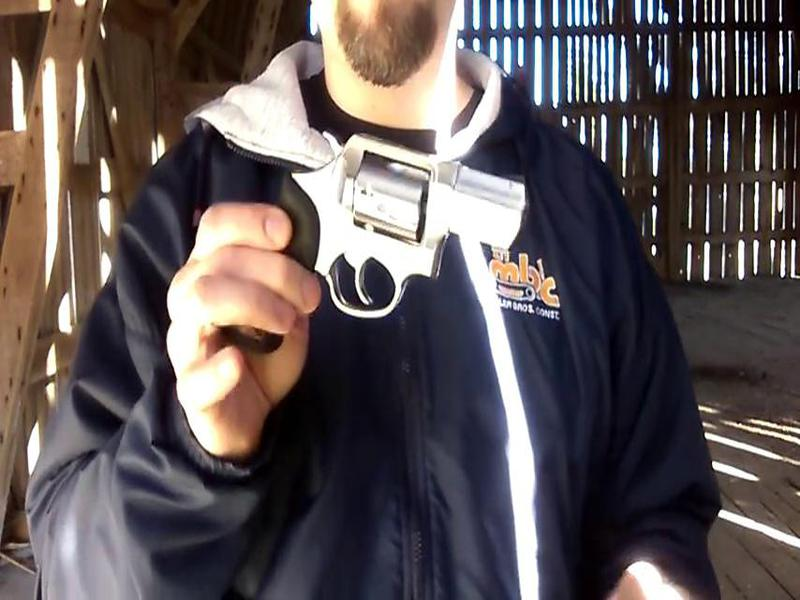Revolver: (213, 112, 537, 376)
